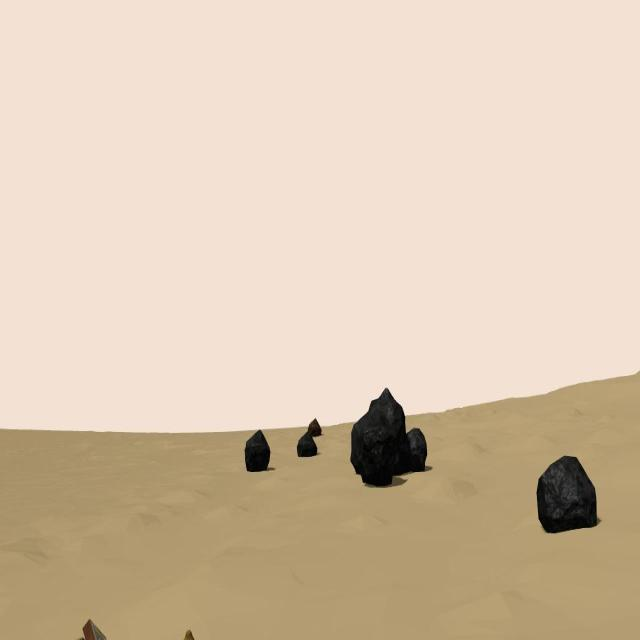rock: (536, 456, 597, 534), (369, 388, 407, 477), (360, 407, 394, 487), (398, 425, 428, 474), (244, 429, 270, 472), (351, 412, 368, 474), (297, 430, 317, 458), (308, 417, 322, 436)
